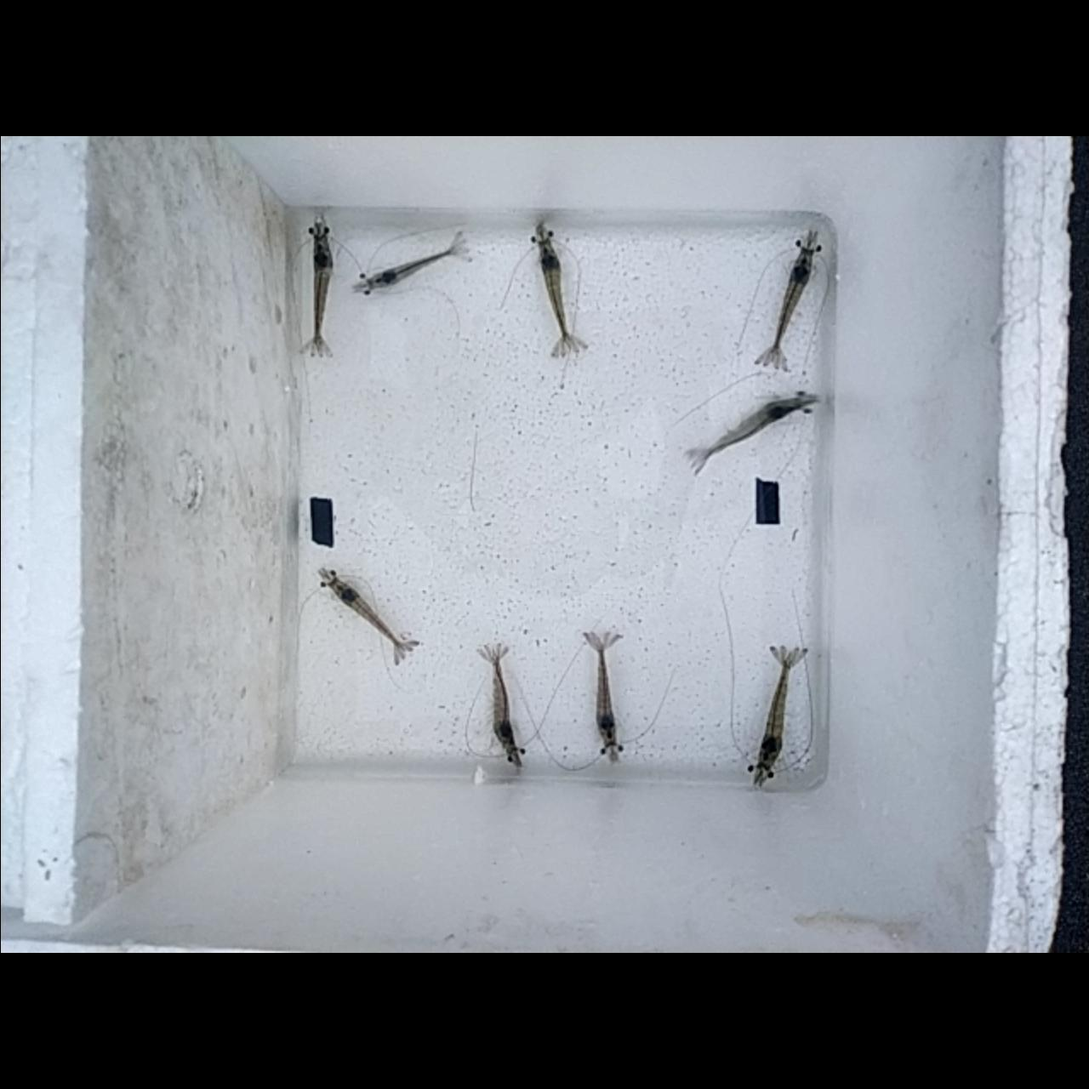box: (310, 500, 334, 544), (757, 483, 779, 522)
top_shrimp: (701, 396, 801, 461), (334, 582, 405, 650), (773, 254, 810, 357), (759, 655, 791, 767), (371, 248, 456, 286), (539, 242, 568, 344), (492, 653, 516, 754), (596, 645, 614, 745), (315, 238, 330, 345)
